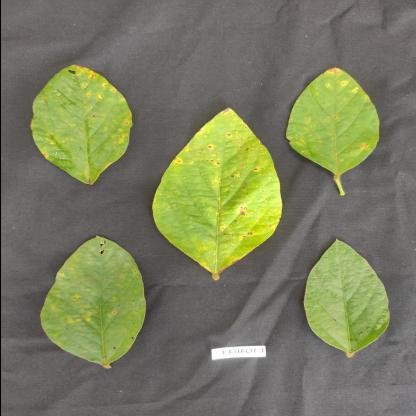label: (194, 340, 264, 360), (172, 330, 174, 331)
leaflets: (135, 102, 288, 288), (280, 54, 415, 193), (46, 222, 160, 376), (16, 47, 138, 175), (290, 238, 394, 364)
